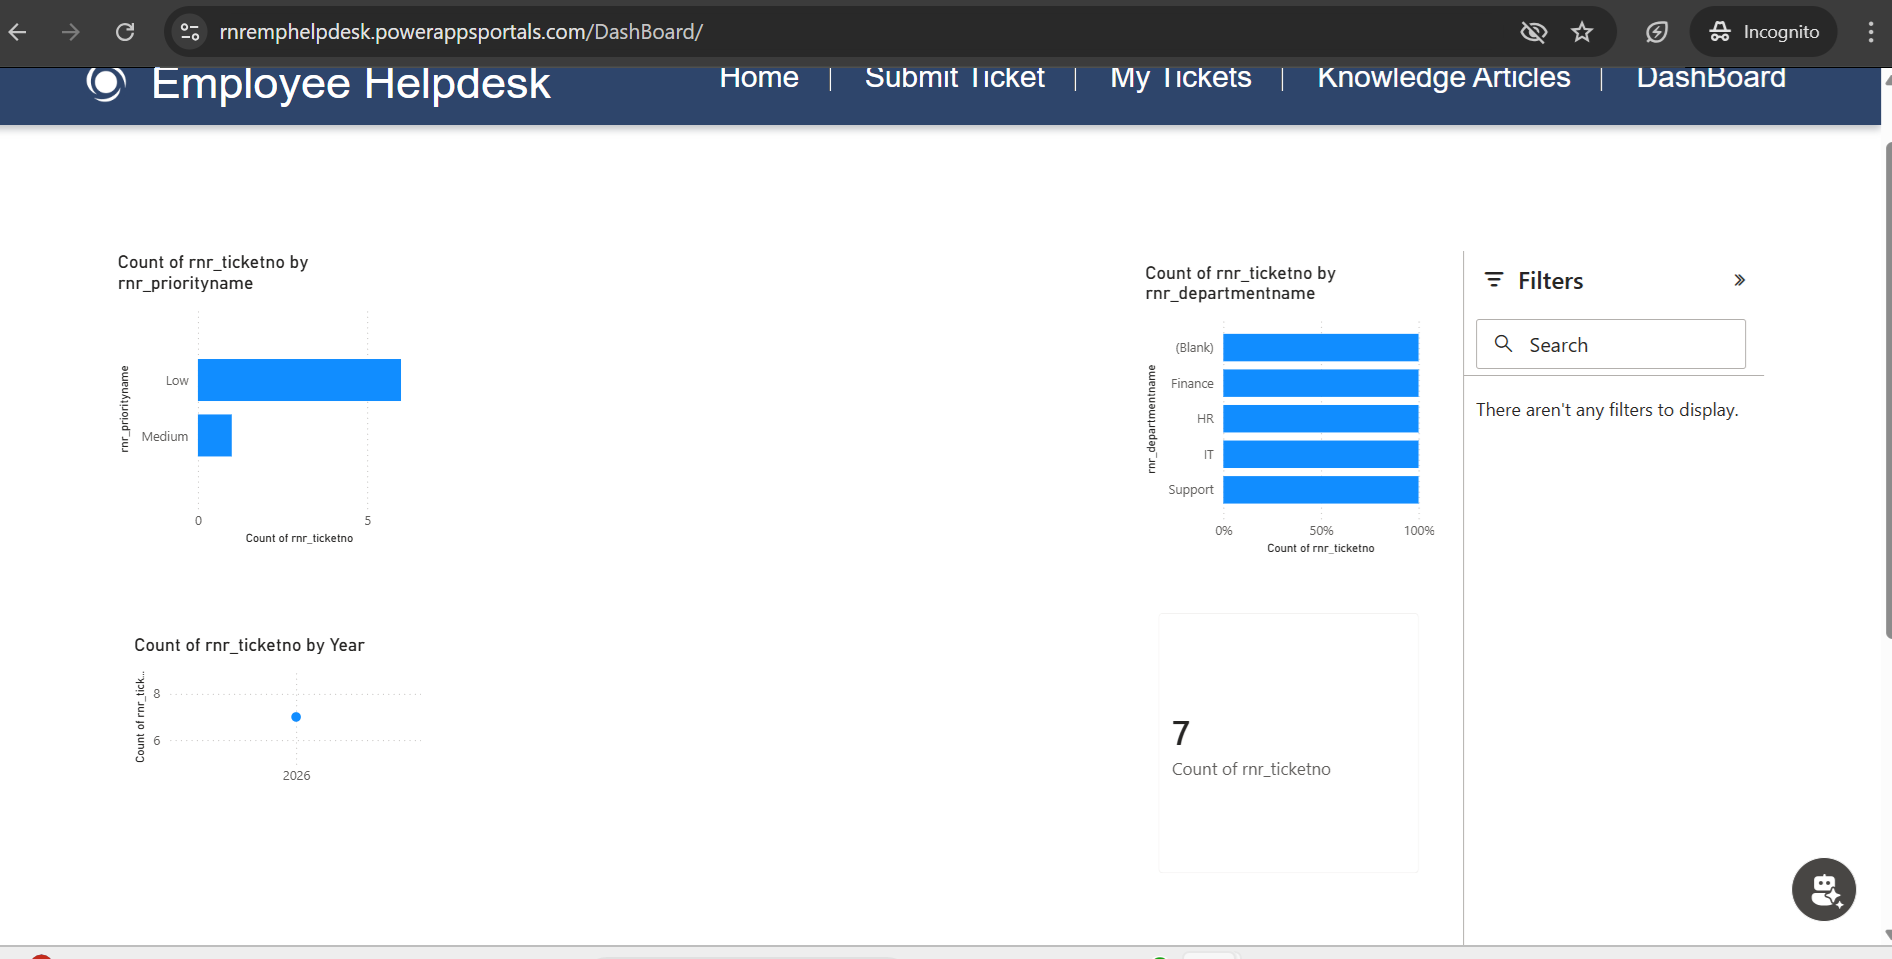

The dashboard page shown, as its layout file describes it:
{"tool":"powerbi","page":{"name":"Page 1","canvas":[1280,720],"ordinal":0},"visuals":[{"type":"clusteredBarChart","fields":{"Category":["rnr_ticket.rnr_priorityname"],"Y":["CountNonNull(rnr_ticket.rnr_ticketno)"]},"box":[10,0,280,280],"z":0},{"type":"cardVisual","fields":{"Data":["CountNonNull(rnr_ticket.rnr_ticketno)"]},"box":[976.7,323,279.6,279.6],"z":1000},{"type":"lineChart","fields":{"Category":["rnr_ticket.createdon.Variation.Date Hierarchy.Year","rnr_ticket.createdon.Variation.Date Hierarchy.Month","rnr_ticket.createdon.Variation.Date Hierarchy.Day"],"Y":["CountNonNull(rnr_ticket.rnr_ticketno)"]},"box":[25.6,360.4,279.6,151.6],"z":2000},{"type":"hundredPercentStackedBarChart","fields":{"Y":["CountNonNull(rnr_ticket.rnr_ticketno)"],"Category":["rnr_ticket.rnr_departmentname"]},"box":[976.7,9.8,281.6,279.6],"z":3000}]}

Visuals, with their boxes on the page's 1280x720 design canvas (x1, y1, x2, y2). These are canvas units, not pixel positions in the 1892x959 screenshot, which may show the page scaled, cropped or inside an application window:
clusteredBarChart - rnr_ticket.rnr_priorityname x CountNonNull(rnr_ticket.rnr_ticketno): (left=10, top=0, right=290, bottom=280)
cardVisual - CountNonNull(rnr_ticket.rnr_ticketno): (left=977, top=323, right=1256, bottom=603)
lineChart - rnr_ticket.createdon.Variation.Date Hierarchy.Year x rnr_ticket.createdon.Variation.Date Hierarchy.Month: (left=26, top=360, right=305, bottom=512)
hundredPercentStackedBarChart - CountNonNull(rnr_ticket.rnr_ticketno) x rnr_ticket.rnr_departmentname: (left=977, top=10, right=1258, bottom=289)
